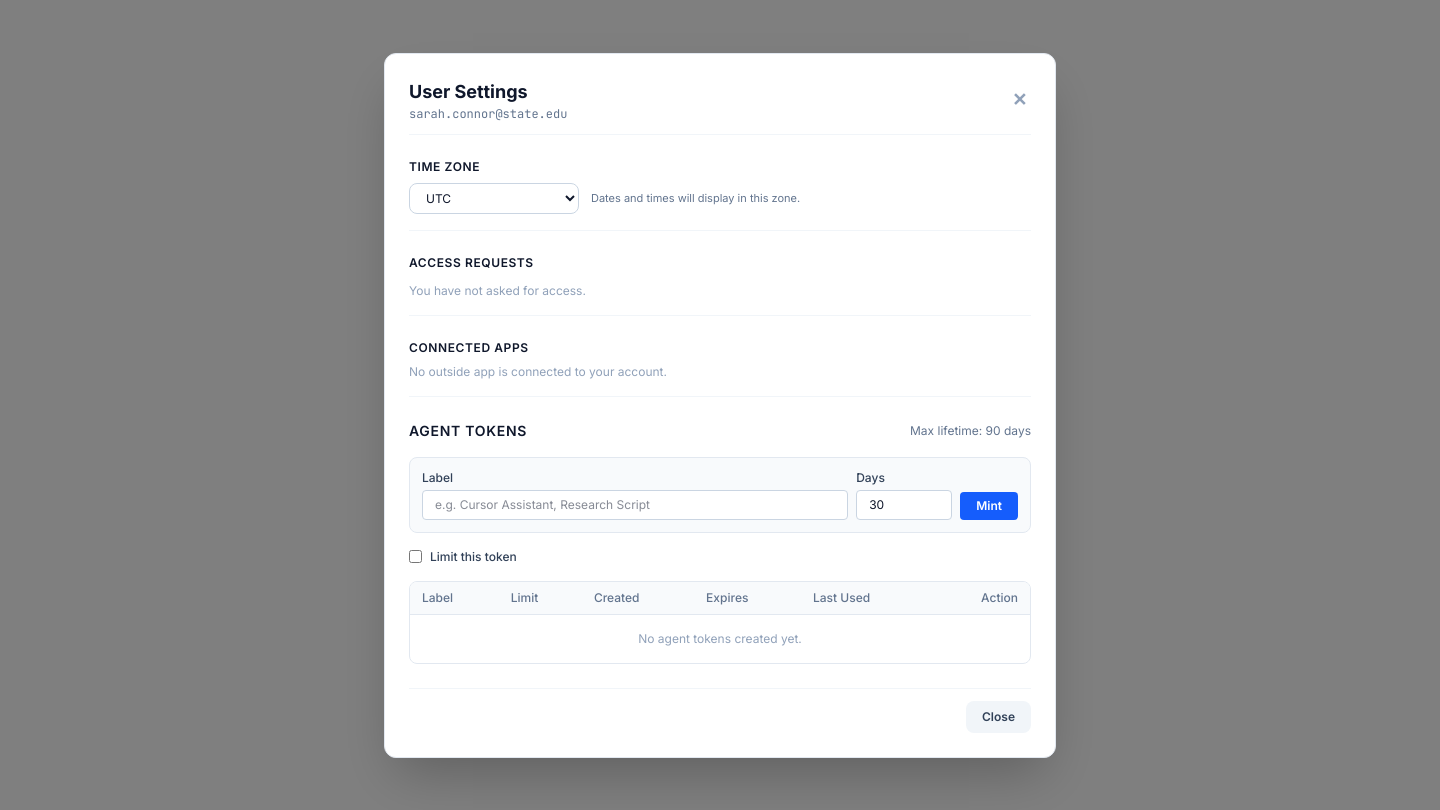
Integrations phase 2: Limit this token › a limited token cannot be minted with nothing chosen
Expected: the form with test id "agent-token-form" is shown, [409,456,1031,532]
Click the checkbox labelled "Limit this token" at (416, 556), box [409,550,422,563]
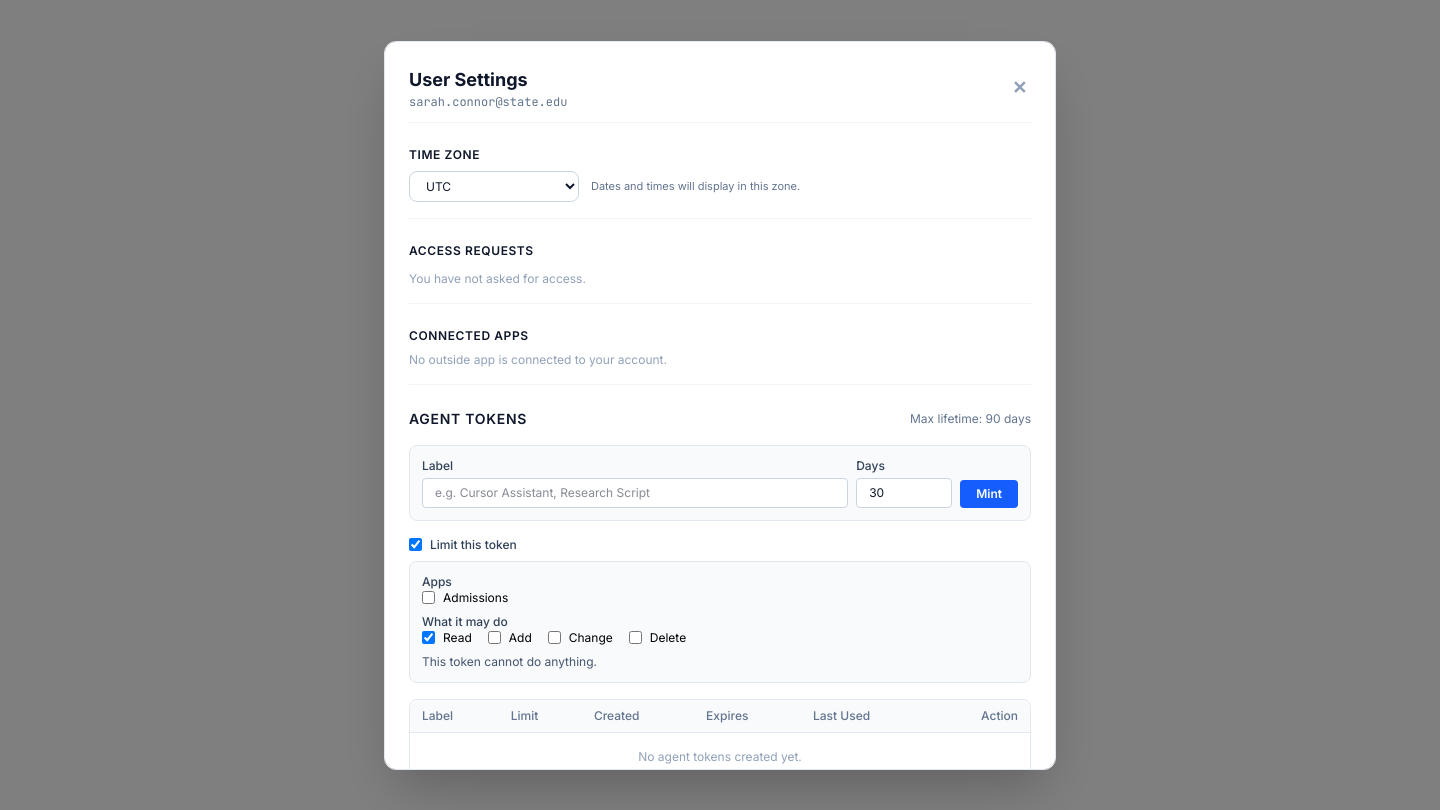
Type "Nothing" into the field with placeholder "e.g. Cursor Assistant, Research Script" at (635, 492), box [422,478,848,508]
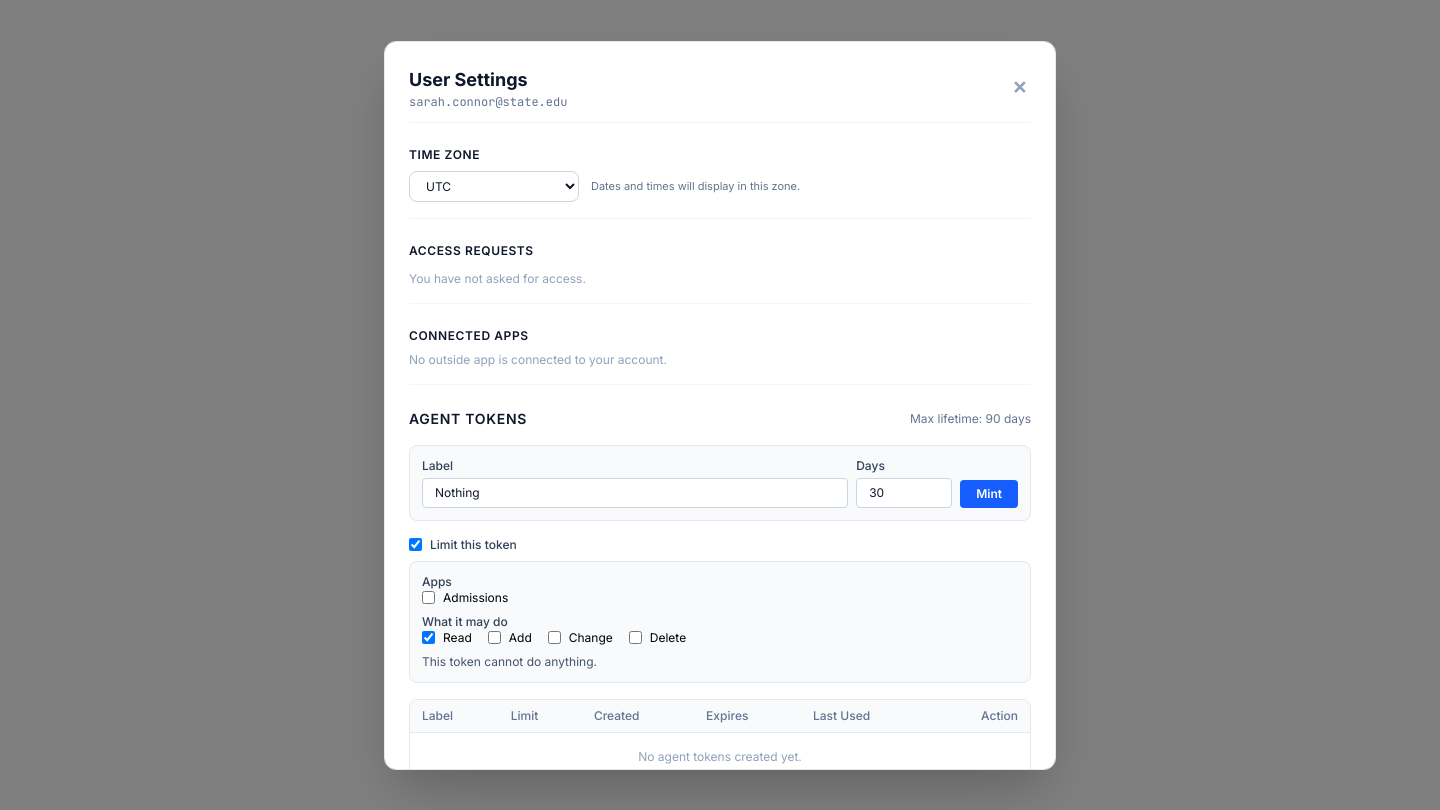
Submit the form with test id "agent-token-form", box [409,444,1031,520]
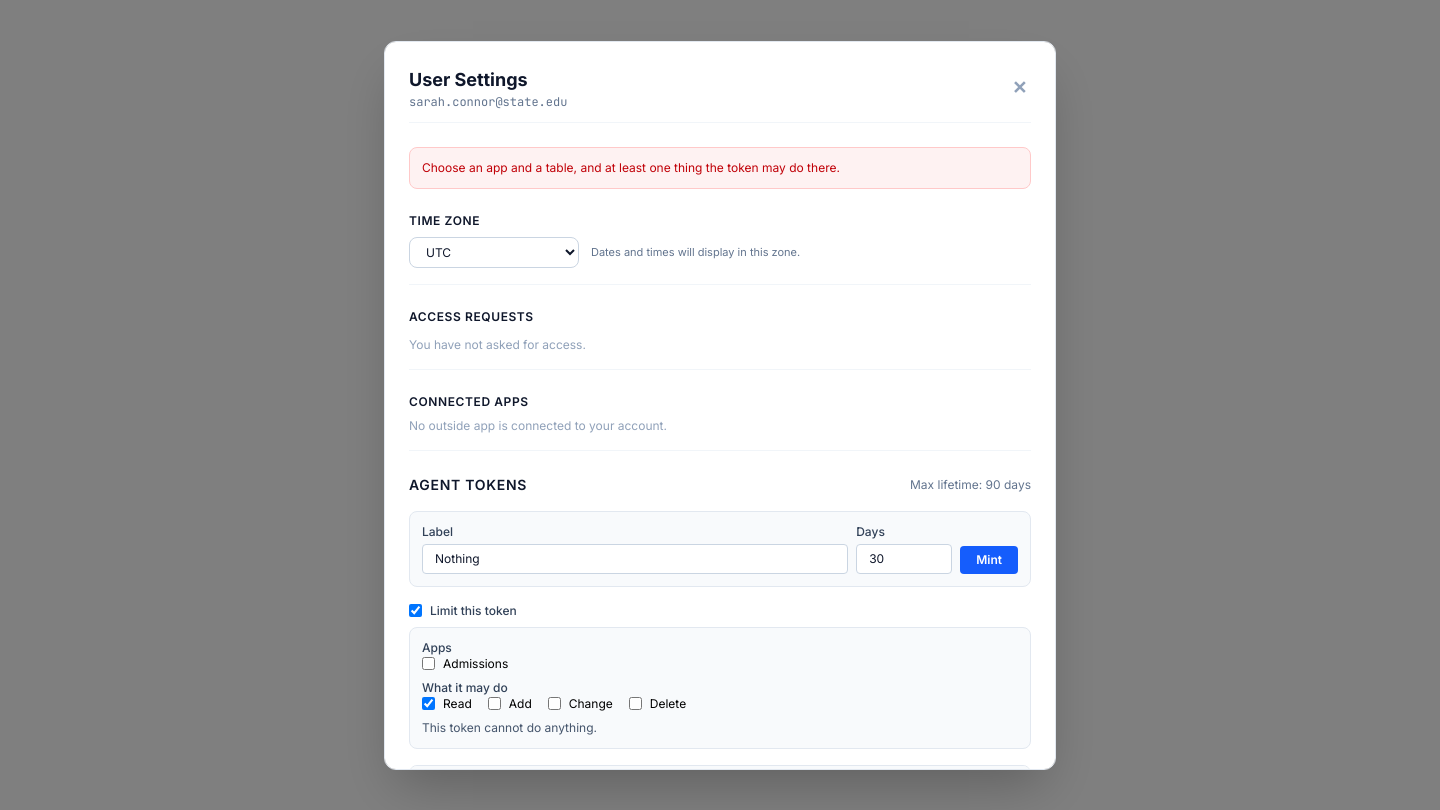
Now the text "Choose an app and a table" is shown, box [422,160,840,174]
